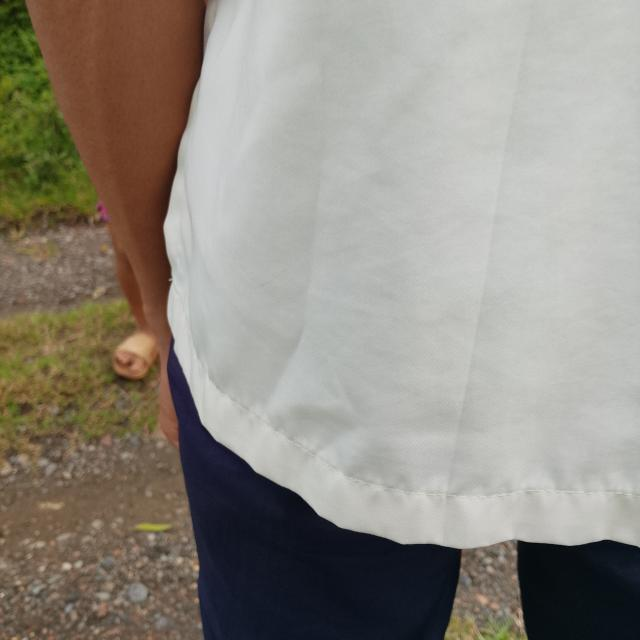education_male_uniform: (115, 0, 633, 582)
